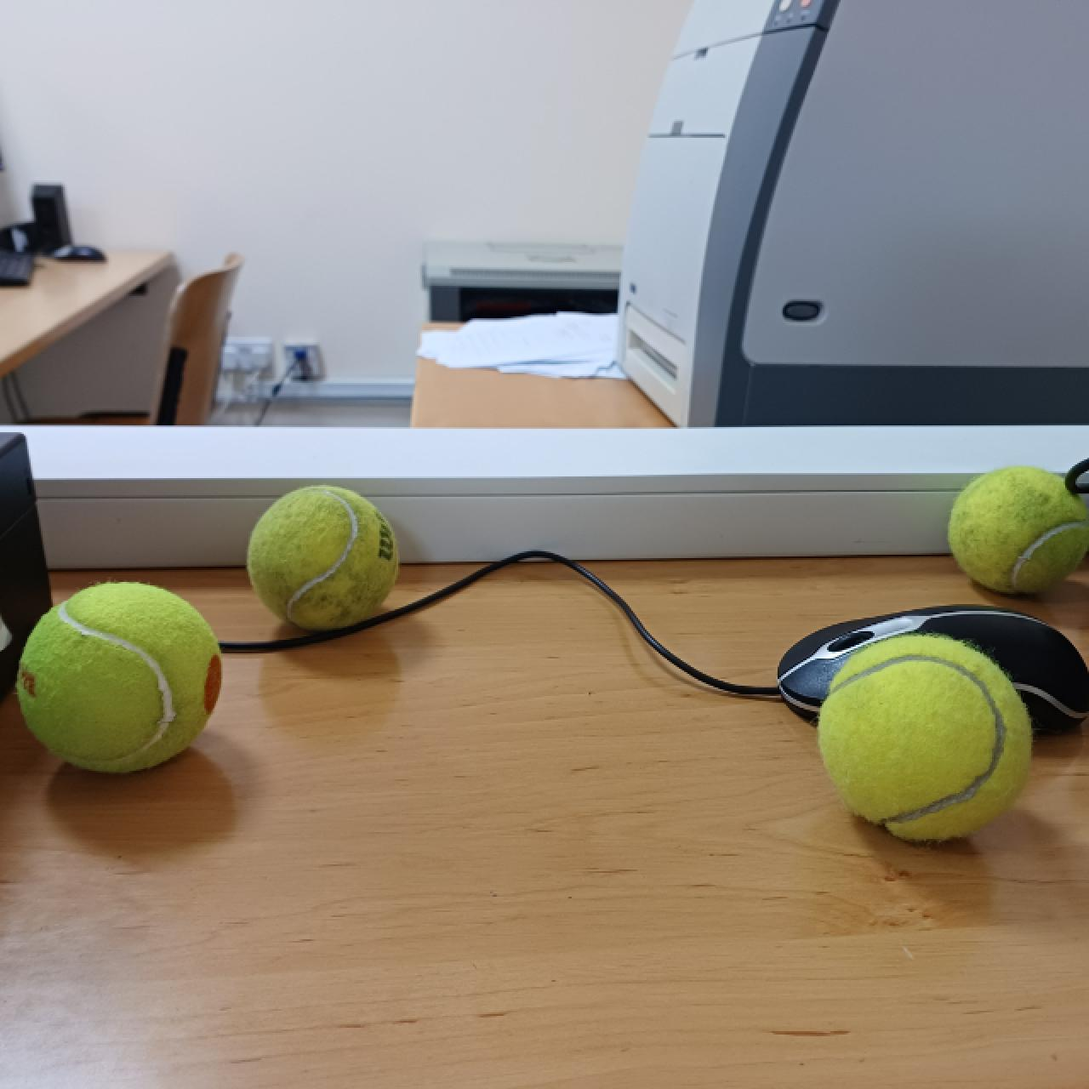tennis-ball: (817, 630, 1036, 843), (16, 579, 224, 778), (244, 481, 402, 628), (946, 464, 1089, 596)
